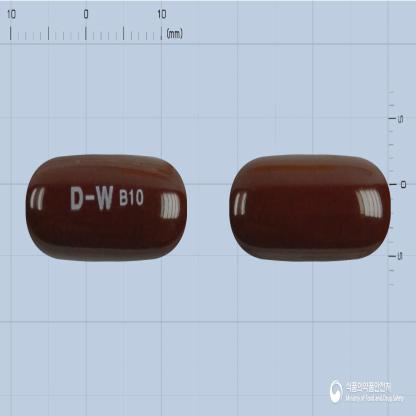pill: (24, 153, 189, 264), (227, 154, 392, 261)
